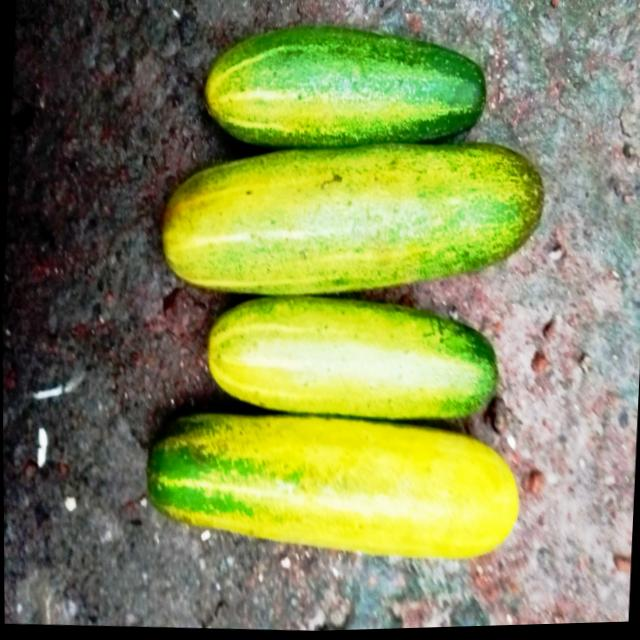Fresh-Cucumber: (156, 128, 550, 318), (145, 401, 525, 576), (200, 286, 507, 436), (200, 12, 492, 163)
